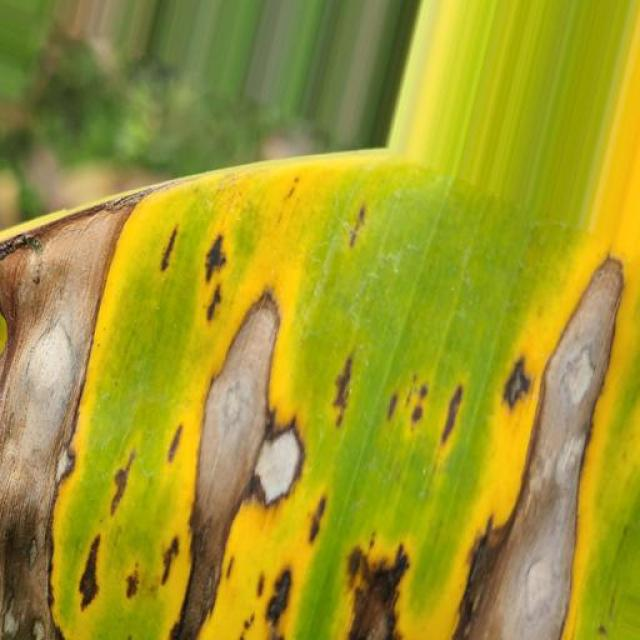Early_rust: (0, 123, 631, 640)
